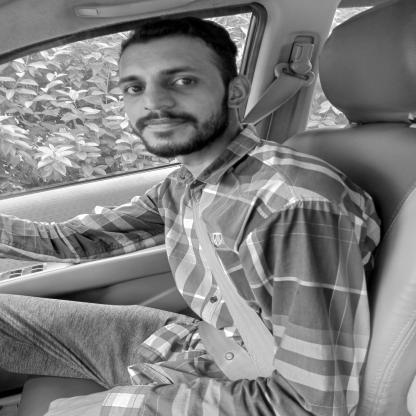seatbelt: (108, 17, 303, 308)
